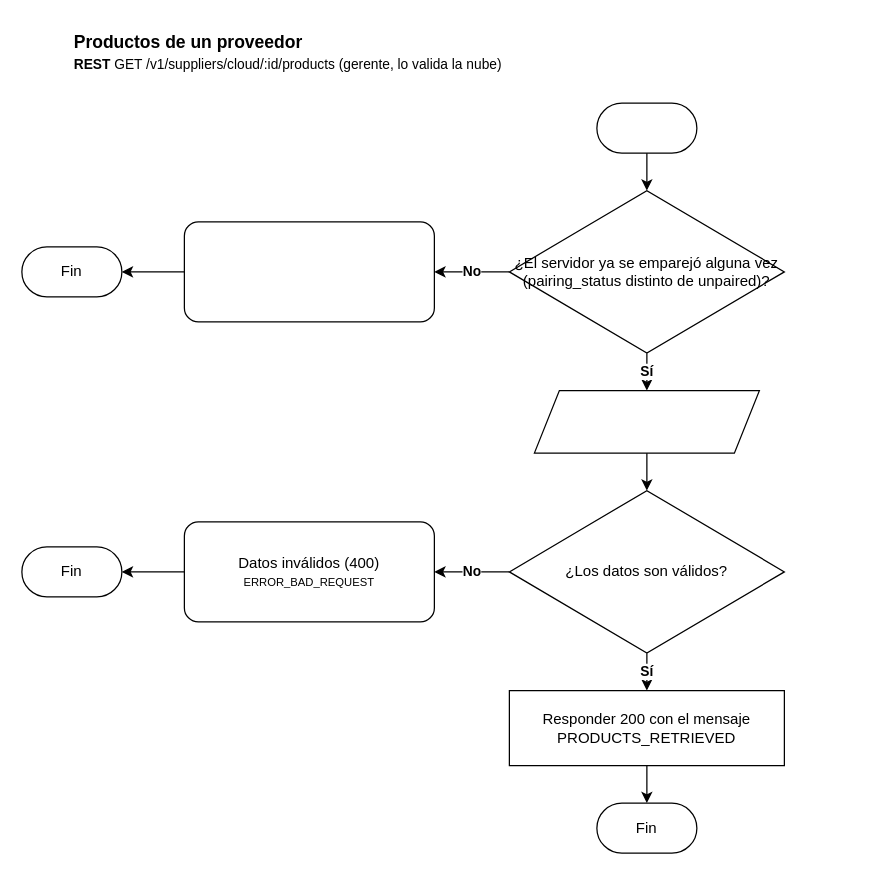
Image size: 894x875. Some labels were removed from this diagram. Here are the shapes that lost their labels. From the top down, the centre of each, then its label:
At (646,127): "Inicio".
At (308,271): "Servidor sin emparejar (409) ERROR_SERVER_NOT_PAIRED".
At (646,421): "Recibir datos".
